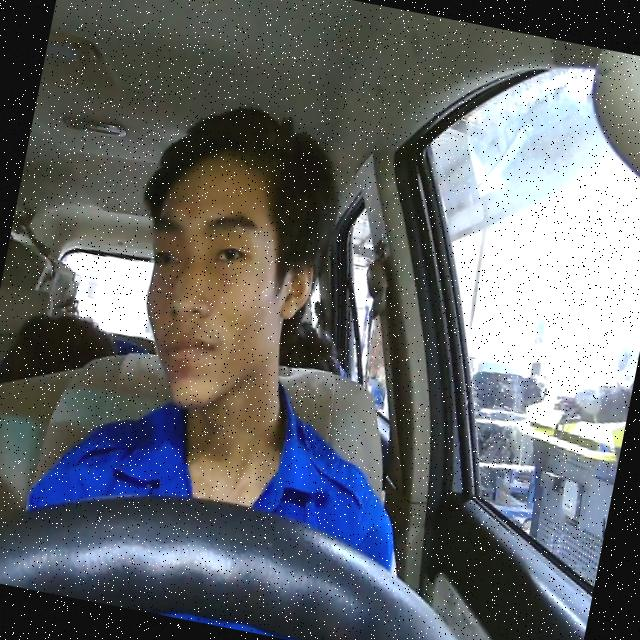seeing_left: (116, 144, 335, 429)
